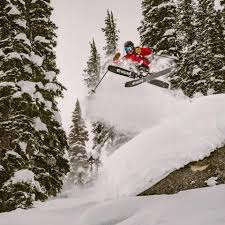skis: (107, 65, 175, 91)
